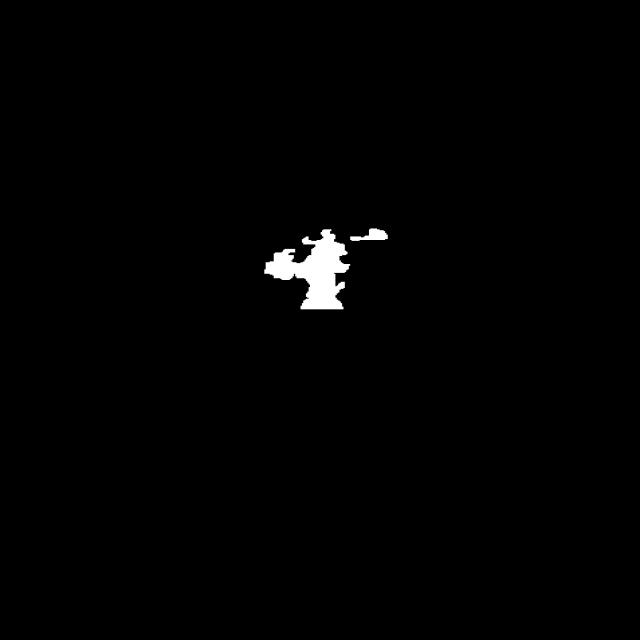fire: (219, 214, 492, 436)
